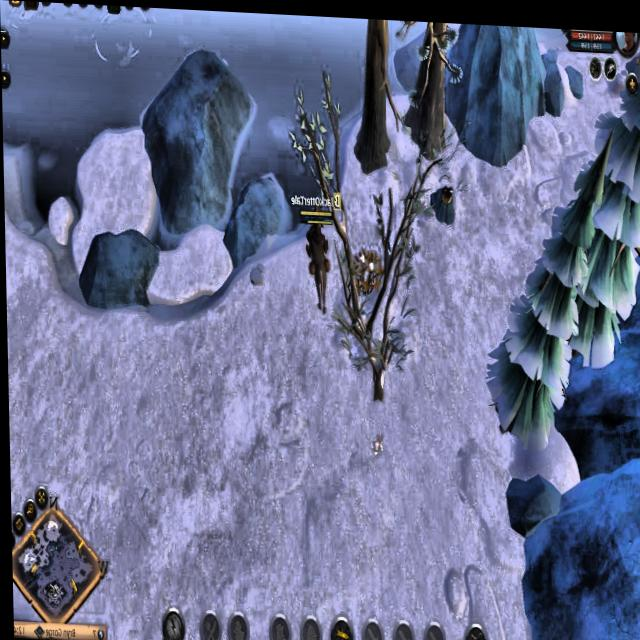copperore: (427, 176, 457, 221)
